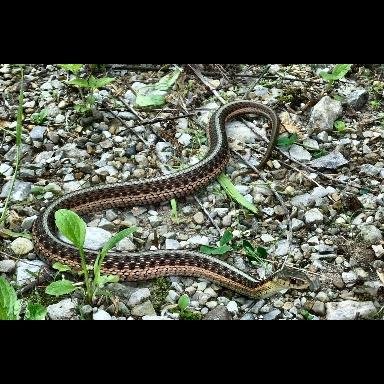snake: (24, 89, 316, 303)
